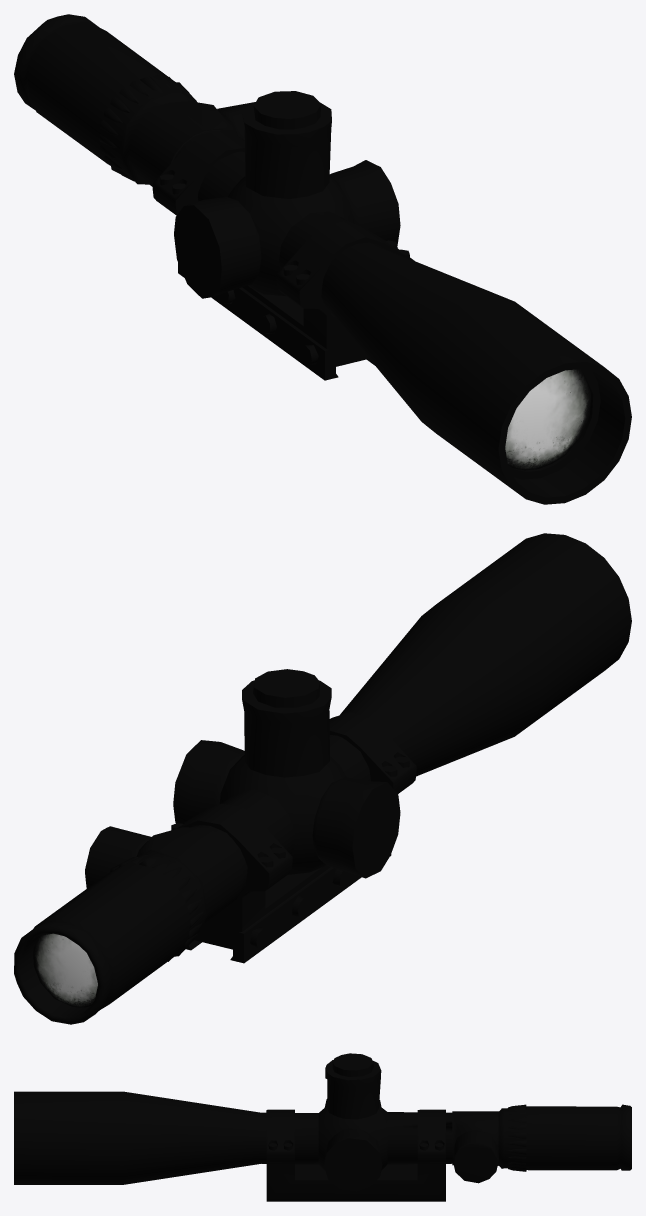
File: SM_Scope_25x56.FBX
The picture shows the model from 3 angles, top to bottom: view 1: azimuth 30°, elevation 25°; view 2: azimuth 150°, elevation 25°; view 3: azimuth 270°, elevation 25°; orthographic projection. The views are drawn at different scales.
Parts seen in each view (by area): view 1: SM_Scope_25x56_LOD1; view 2: SM_Scope_25x56_LOD1; view 3: SM_Scope_25x56_LOD1.
Boxes of the visible parts, box(x1,y1,x2,y2) form: SM_Scope_25x56_LOD1: box(14, 14, 631, 504); SM_Scope_25x56_LOD1: box(14, 533, 631, 1024); SM_Scope_25x56_LOD1: box(14, 1053, 631, 1201).
Size of the model in its own units: 8.5 by 9.77 by 41.58.
